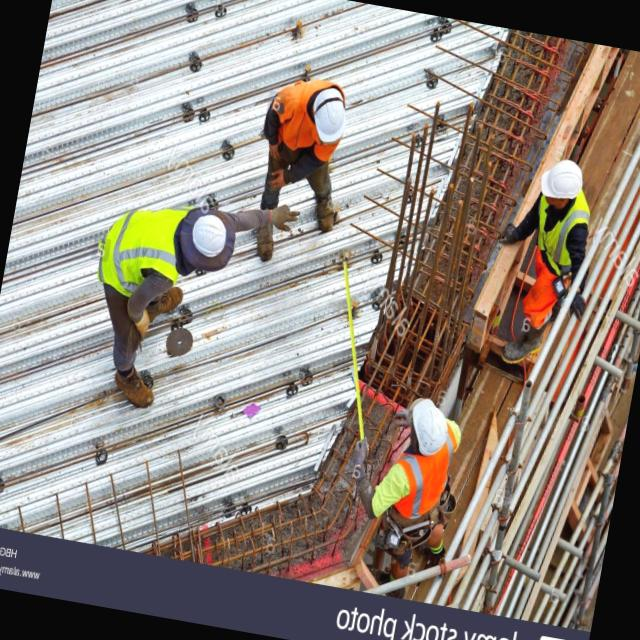helmet: (396, 393, 460, 468), (534, 154, 588, 218), (302, 86, 352, 148), (182, 211, 236, 268)
vest: (89, 188, 193, 310), (384, 436, 464, 534), (521, 205, 586, 279)
